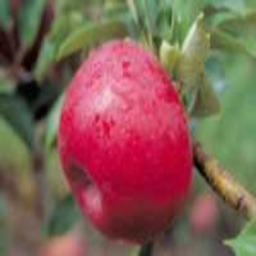apple: (54, 39, 192, 243)
